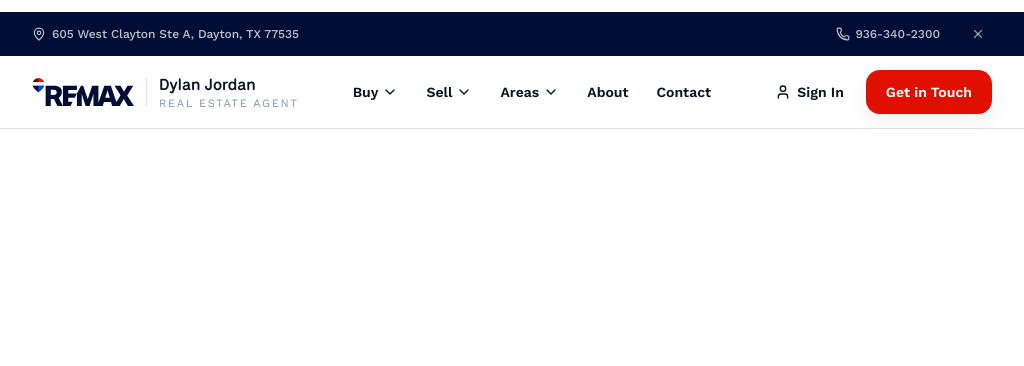
header menus › lists every town in the areas panel
Click the button "Areas". click: point(530, 92)
box: [500, 70, 559, 114]
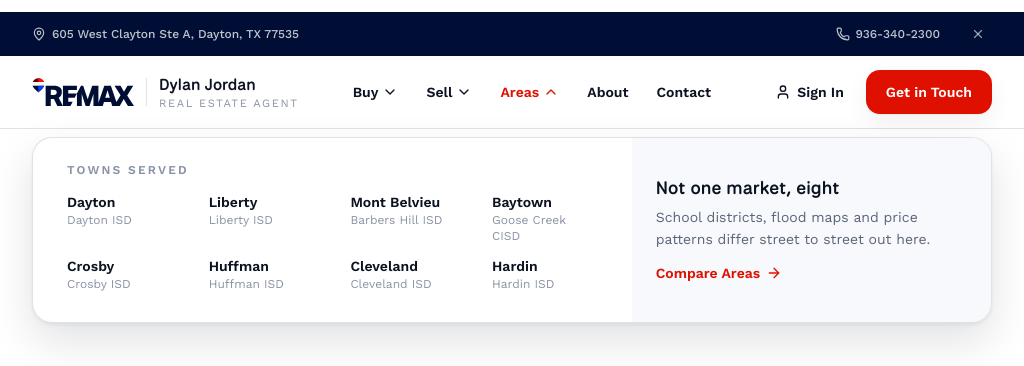
Expected: the button "Areas" is expanded, [500, 70, 559, 114]
